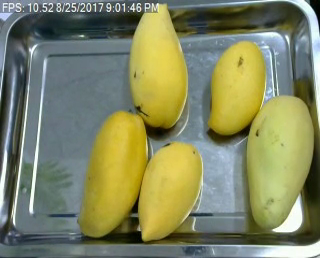Mango: (244, 89, 317, 231), (76, 112, 149, 238), (124, 3, 194, 132), (134, 140, 204, 240), (209, 39, 270, 140)
